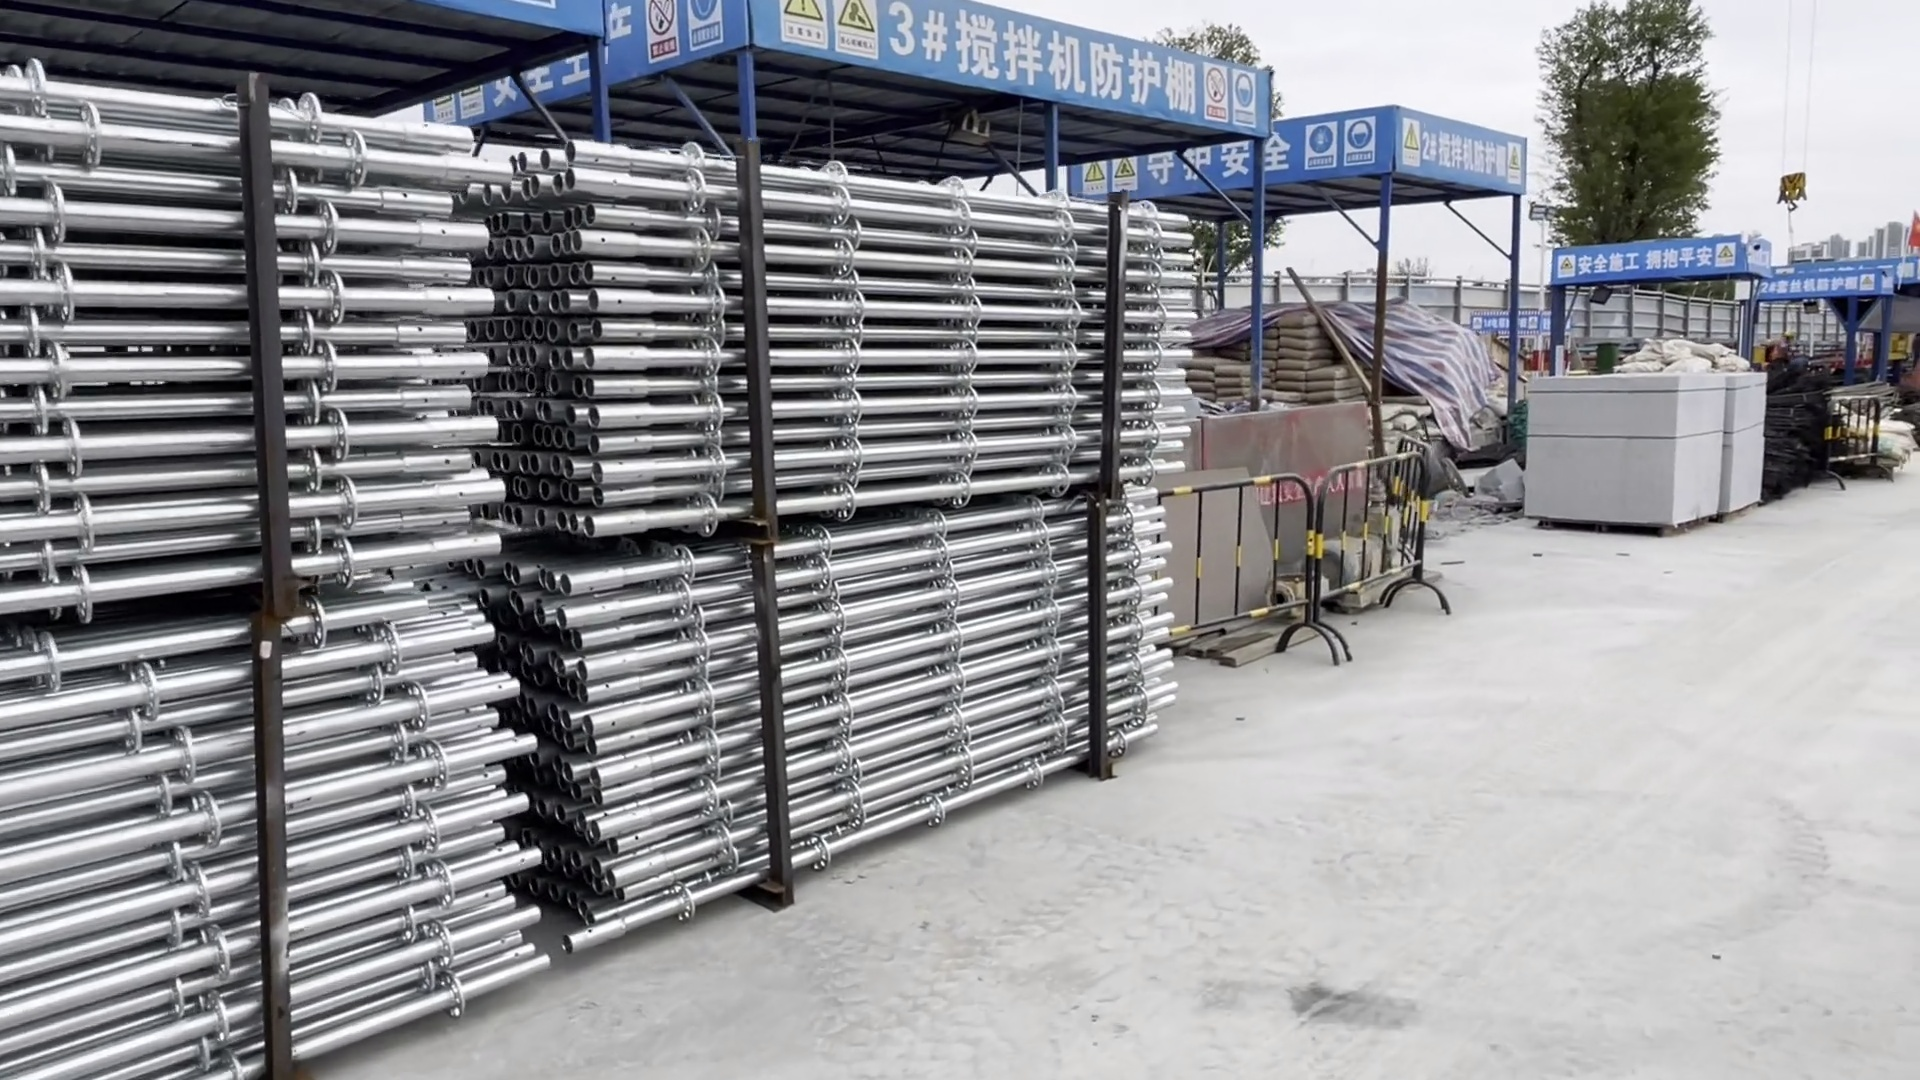brick: (1519, 371, 1726, 531), (1714, 367, 1768, 535)
scaffold: (488, 138, 1188, 977), (1, 47, 550, 1080)
slogan: (1069, 116, 1385, 186), (781, 1, 893, 75), (1556, 244, 1737, 281), (1187, 57, 1251, 138), (640, 1, 716, 65)
